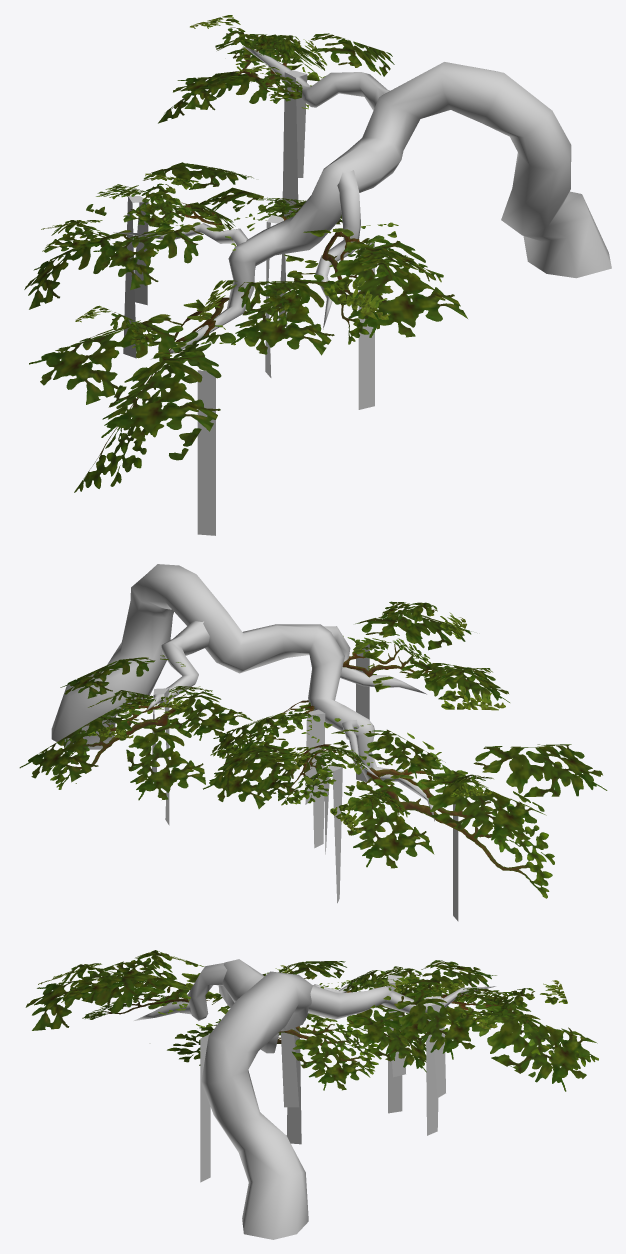
File: environment_Tree_fuyushan_001_a.FBX
3 views of the same model, one above another, from view 1: azimuth 30°, elevation 25°; view 2: azimuth 150°, elevation 25°; view 3: azimuth 270°, elevation 25° (orthographic). The views are drawn at different scales.
Visible parts, largest first — view 1: environment_Tree_fuyushan_001_a1, environment_Tree_fuyushan_001_a2, environment_Tree_fuyushan_001_a3; view 2: environment_Tree_fuyushan_001_a1, environment_Tree_fuyushan_001_a2, environment_Tree_fuyushan_001_a3; view 3: environment_Tree_fuyushan_001_a1, environment_Tree_fuyushan_001_a2, environment_Tree_fuyushan_001_a3.
Boxes of the visible parts, x1,y1,x2,y2 form: environment_Tree_fuyushan_001_a1: (24,15,467,492); environment_Tree_fuyushan_001_a2: (113,46,611,359); environment_Tree_fuyushan_001_a3: (123,70,374,535); environment_Tree_fuyushan_001_a1: (19,601,607,898); environment_Tree_fuyushan_001_a2: (51,564,434,821); environment_Tree_fuyushan_001_a3: (152,642,458,921); environment_Tree_fuyushan_001_a1: (25,950,598,1091); environment_Tree_fuyushan_001_a2: (134,959,495,1239); environment_Tree_fuyushan_001_a3: (200,974,445,1182).
Size of the model in its own units: 682 by 409 by 681.
